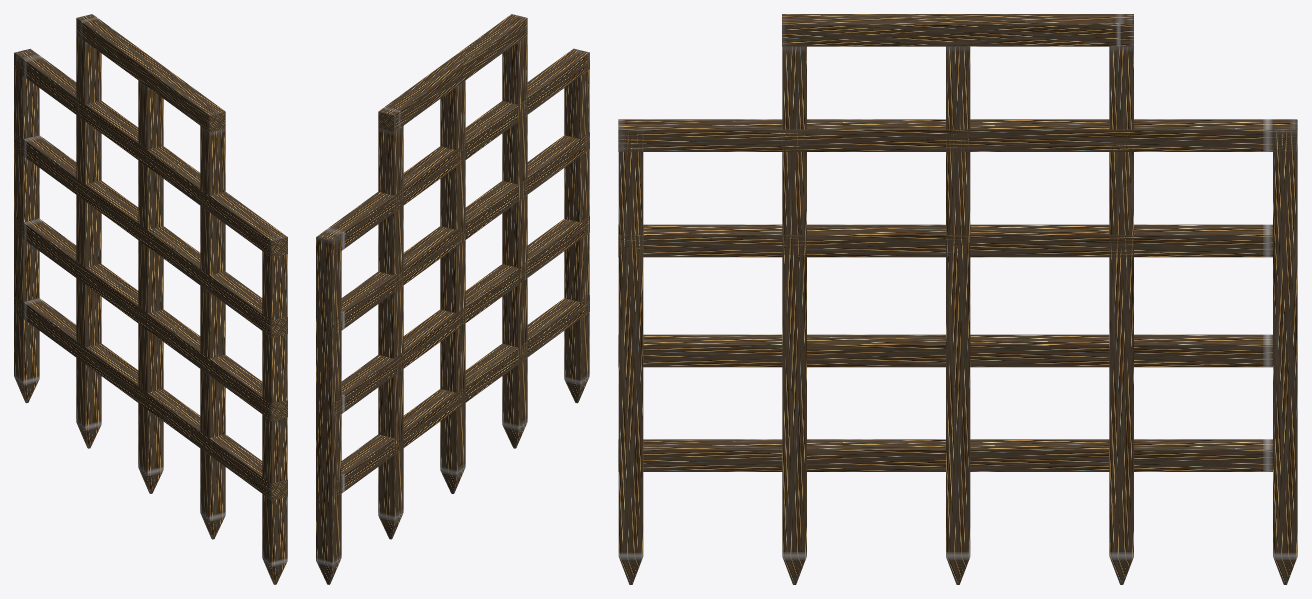
File: gate.obj
3 views of the same model, side by side, from view 1: azimuth 30°, elevation 25°; view 2: azimuth 150°, elevation 25°; view 3: azimuth 270°, elevation 25° (orthographic). The views are drawn at different scales.
Visible parts, largest first — view 1: pCube15; view 2: pCube15; view 3: pCube15.
Part boxes in pixels (x1,y1,x2,y2): pCube15: [14, 14, 287, 584]; pCube15: [316, 14, 589, 584]; pCube15: [618, 14, 1297, 584].
Bounding box in the file's own units: 0.15 × 3.81 × 4.15.
1 material, 1 textured.
